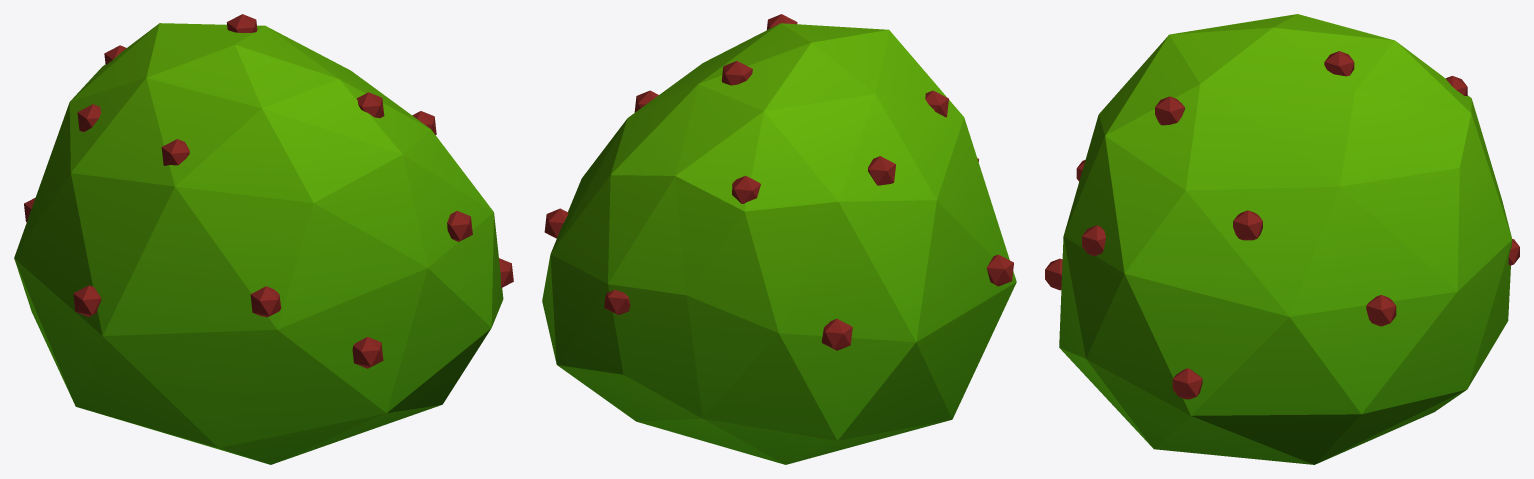
Rendered from bush_3.fbx.
3 renders of one model, left to right at view 1: azimuth 30°, elevation 25°; view 2: azimuth 150°, elevation 25°; view 3: azimuth 270°, elevation 25°, orthographic.
Visible parts, largest first — view 1: bush_3; view 2: bush_3; view 3: bush_3.
Part boxes in pixels (x1,y1,x2,y2): bush_3: [14, 14, 513, 464]; bush_3: [542, 14, 1016, 464]; bush_3: [1045, 14, 1519, 464].
Bounding box in the file's own units: 1.52 × 1.34 × 1.51.
